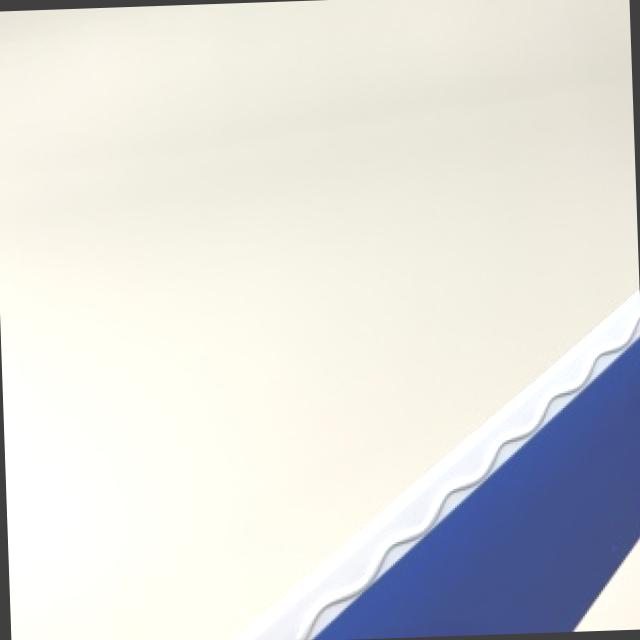healthy: (238, 290, 640, 640)
